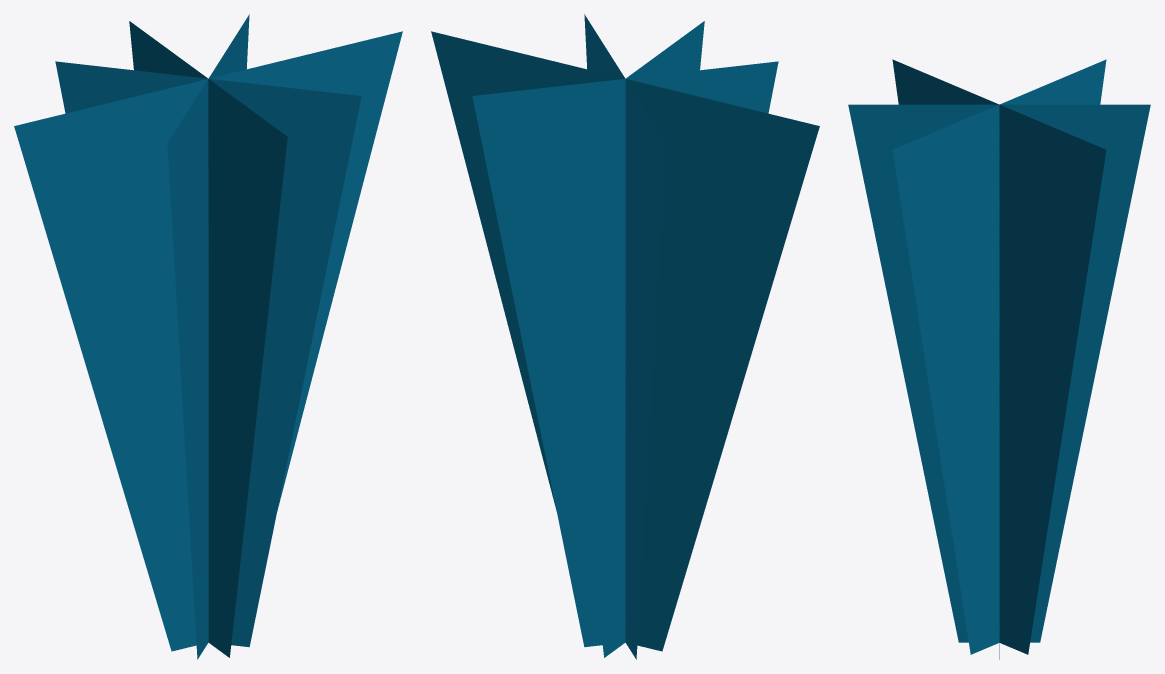
Rendered from Efecto_holograma.fbx.
3 views of the same model, side by side, from view 1: azimuth 30°, elevation 25°; view 2: azimuth 150°, elevation 25°; view 3: azimuth 270°, elevation 25° (orthographic). The views are drawn at different scales.
Visible parts, largest first — view 1: Plane; view 2: Plane; view 3: Plane.
Part boxes in pixels (x1=…): Plane: x1=14, y1=14, x2=402, y2=659; Plane: x1=431, y1=14, x2=819, y2=659; Plane: x1=848, y1=59, x2=1150, y2=659.
Size of the model in its own units: 116 by 161 by 82.05.
